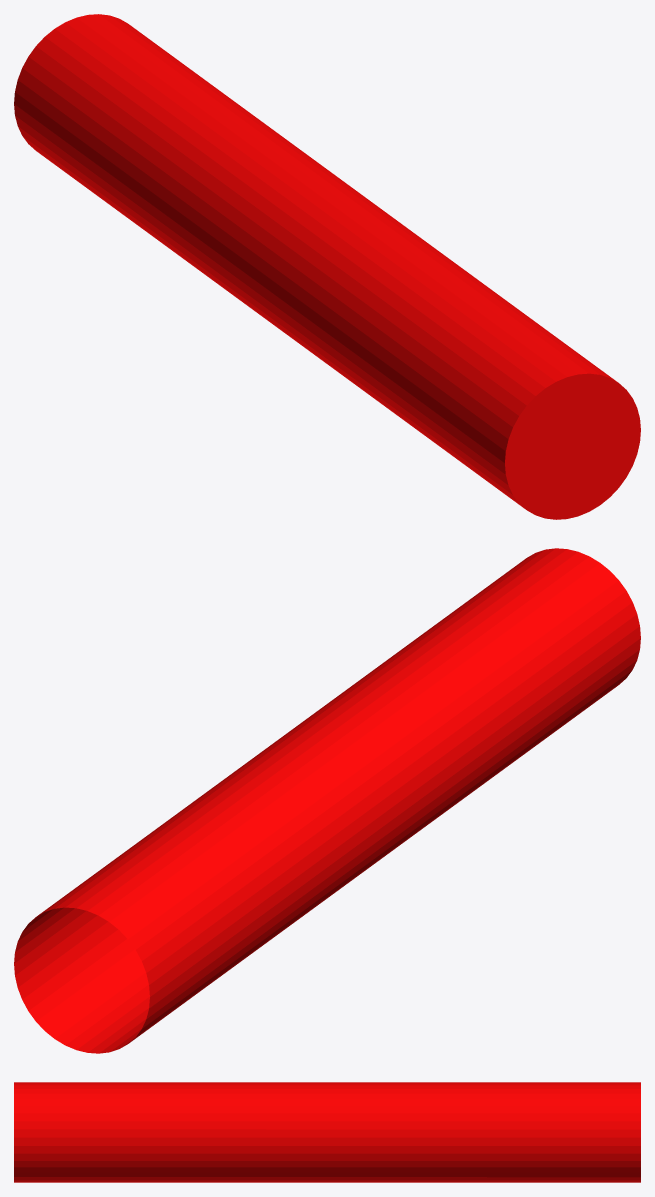
The model's file is zatana_terra_Z_parts_vis_12.dae.
3 views of the same model, one above another, from view 1: azimuth 30°, elevation 25°; view 2: azimuth 150°, elevation 25°; view 3: azimuth 270°, elevation 25° (orthographic). The views are drawn at different scales.
Parts seen in each view (by area): view 1: Node_000002318374C7E0; view 2: Node_000002318374C7E0; view 3: Node_000002318374C7E0.
Part boxes in pixels (x1=…): Node_000002318374C7E0: x1=14, y1=14, x2=640, y2=519; Node_000002318374C7E0: x1=14, y1=548, x2=640, y2=1053; Node_000002318374C7E0: x1=14, y1=1082, x2=640, y2=1182.
Bounding box in the file's own units: 0.0016 × 0.00159 × 0.01.
